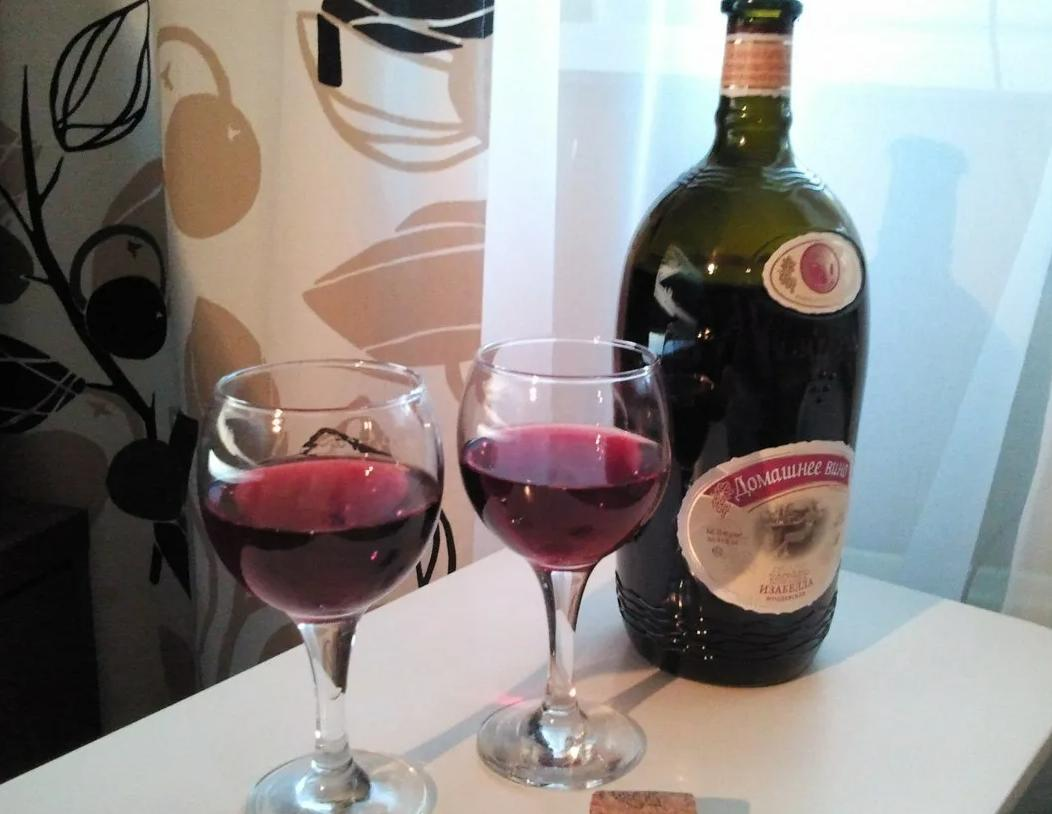wine bottle: (613, 0, 872, 688)
wine label: (677, 440, 855, 614)
